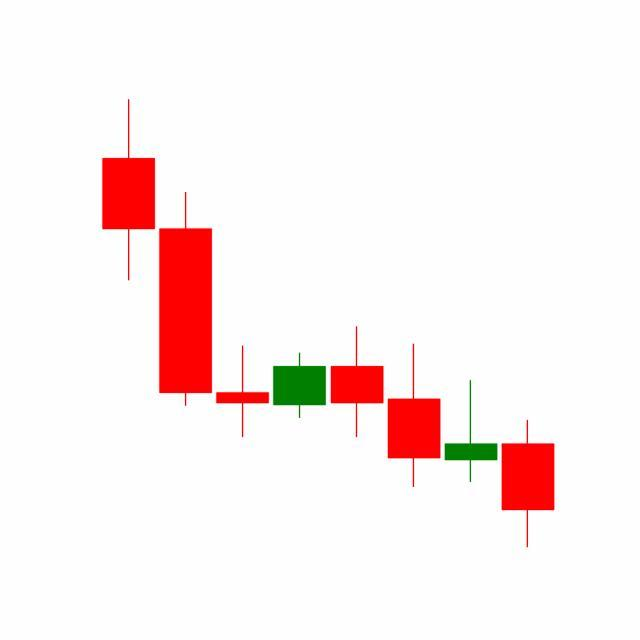Hikkake Pattern: (270, 323, 555, 549)
